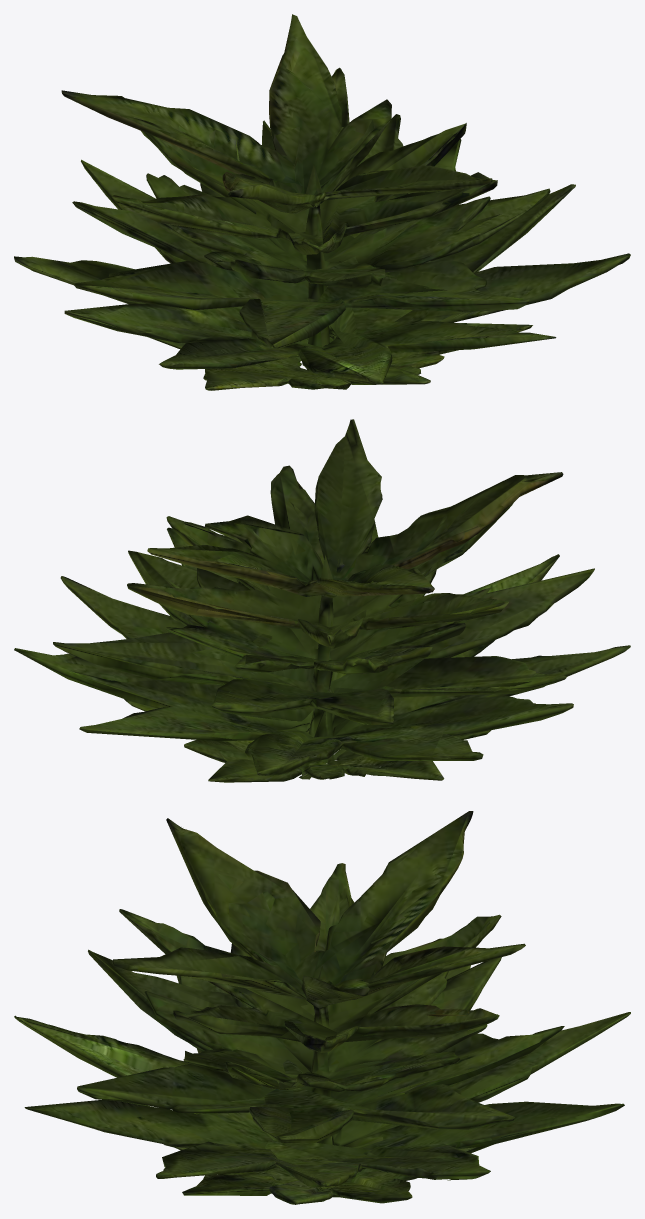
Rendered from Fern-1.glb.
The picture shows the model from 3 angles, top to bottom: view 1: azimuth 30°, elevation 25°; view 2: azimuth 150°, elevation 25°; view 3: azimuth 270°, elevation 25°; orthographic projection. The views are drawn at different scales.
Visible parts, largest first — view 1: layered_dark_fern.001; view 2: layered_dark_fern.001; view 3: layered_dark_fern.001.
Boxes of the visible parts, left/top/right/bottom form: layered_dark_fern.001: left=14, top=14, right=630, bottom=390; layered_dark_fern.001: left=14, top=419, right=630, bottom=782; layered_dark_fern.001: left=14, top=811, right=630, bottom=1204.
Bounding box in the file's own units: 0.586 × 0.3002 × 0.5979.
Materials: 1 (1 with a texture image).
